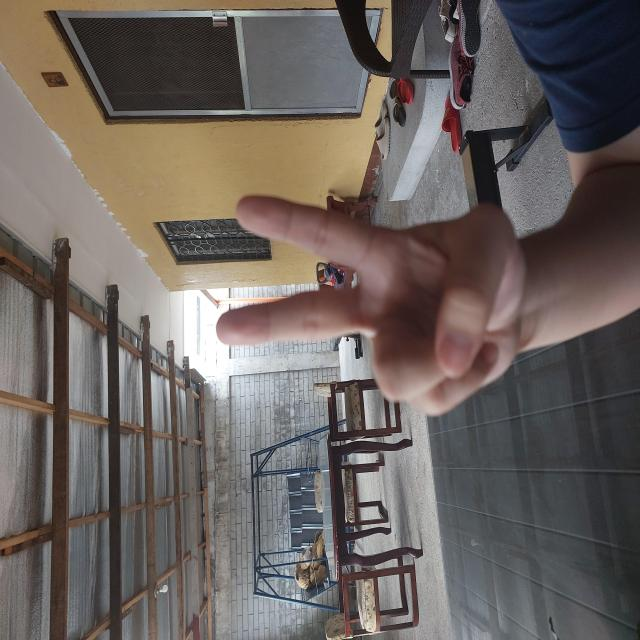V: (220, 212, 448, 532)
